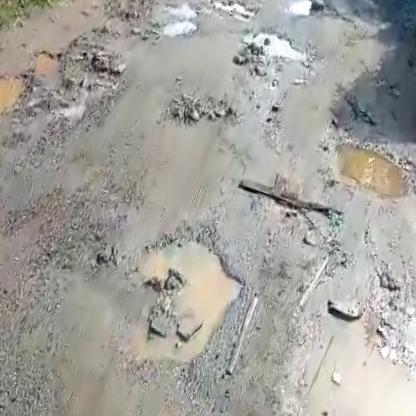pothole: (113, 215, 261, 381), (230, 313, 416, 416), (26, 18, 134, 110), (231, 172, 356, 242), (322, 129, 416, 212), (157, 80, 242, 142), (239, 21, 317, 73), (157, 0, 206, 44), (0, 59, 30, 129)
